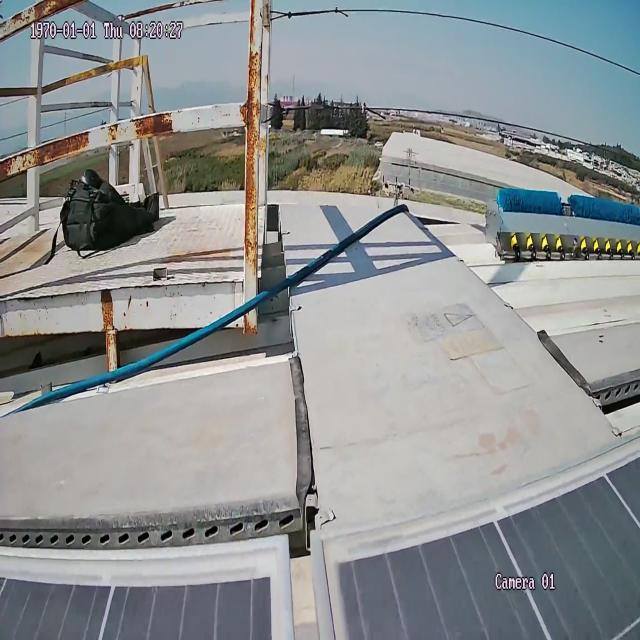outher panel: (0, 258, 640, 542)
